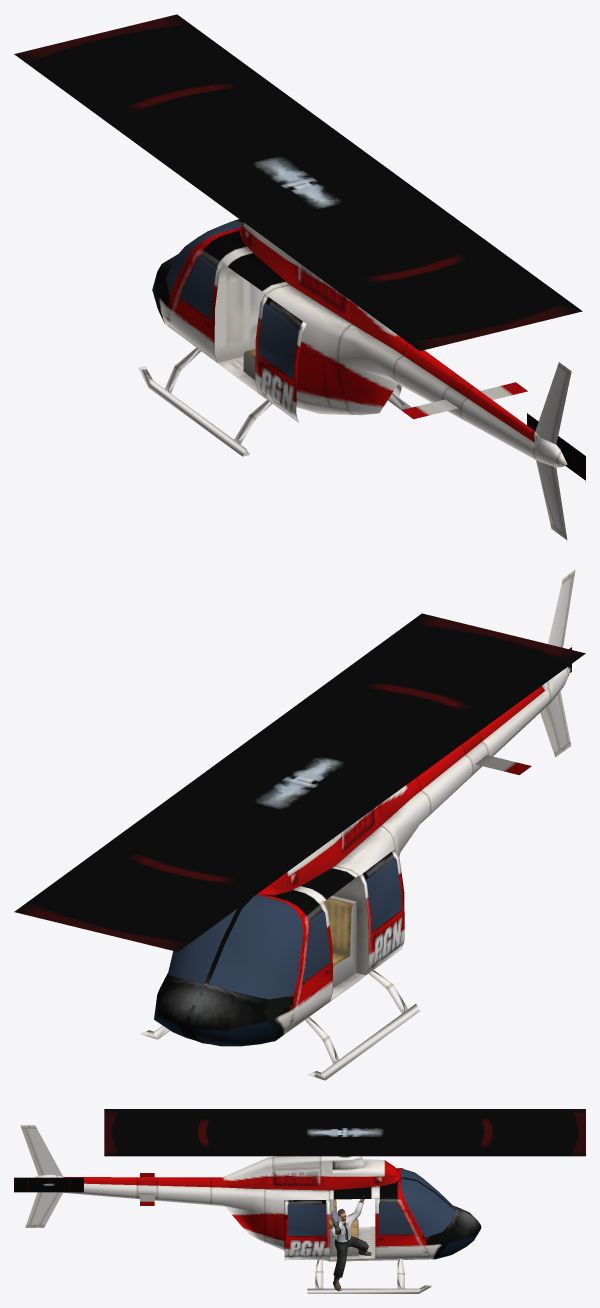
File: GNN_HELICOPTER.glb
The picture shows the model from 3 angles, top to bottom: view 1: azimuth 30°, elevation 25°; view 2: azimuth 150°, elevation 25°; view 3: azimuth 270°, elevation 25°; orthographic projection. The views are drawn at different scales.
Visible parts, largest first — view 1: MAIN_ROTOR1, BODY, TAIL_ROTOR; view 2: MAIN_ROTOR1, BODY; view 3: BODY, MAIN_ROTOR1, TAIL_ROTOR.
Part boxes in pixels (<box>): MAIN_ROTOR1: <box>14,14,582,350</box>; BODY: <box>138,219,571,539</box>; TAIL_ROTOR: <box>527,413,585,480</box>; MAIN_ROTOR1: <box>14,613,585,951</box>; BODY: <box>140,569,575,1080</box>; BODY: <box>20,1125,481,1293</box>; MAIN_ROTOR1: <box>104,1109,585,1156</box>; TAIL_ROTOR: <box>14,1177,83,1192</box>.
Bounding box in the file's own units: 2.81 × 3.53 × 12.79.
Materials: 7 (6 with a texture image).
